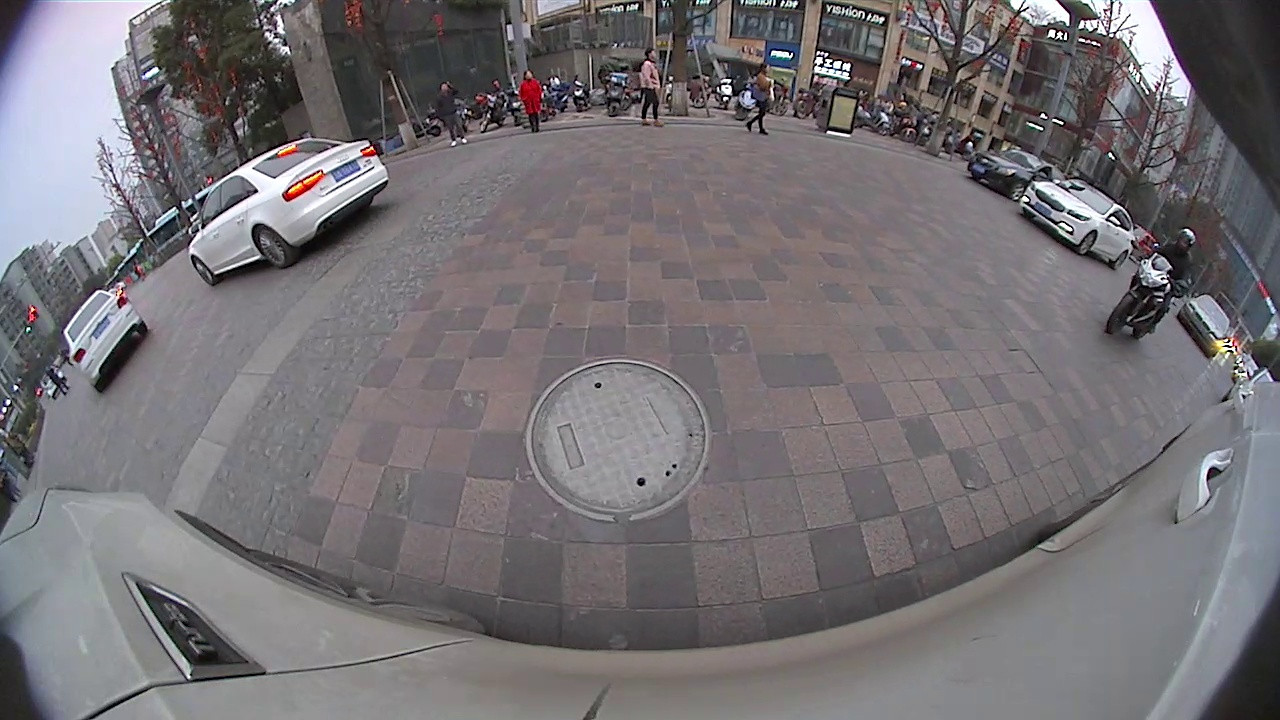car: (184, 135, 392, 287), (1019, 177, 1138, 272), (61, 287, 150, 393), (965, 147, 1068, 209), (1175, 292, 1232, 361)
front: (187, 253, 220, 288), (1075, 228, 1099, 259), (1073, 229, 1100, 256), (1006, 177, 1029, 202)
person: (436, 80, 469, 150), (745, 62, 771, 137), (643, 46, 659, 131), (522, 68, 542, 134)
rear: (249, 223, 297, 271)
rider: (1104, 228, 1195, 341)
